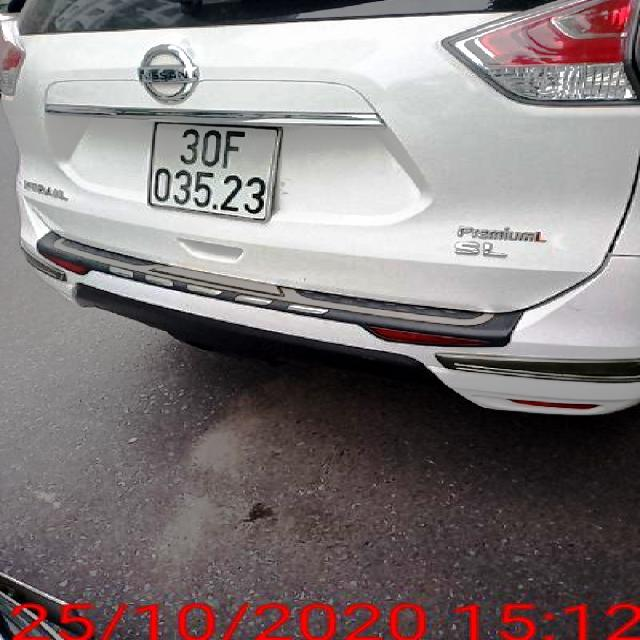license_plate: (148, 121, 283, 222)
